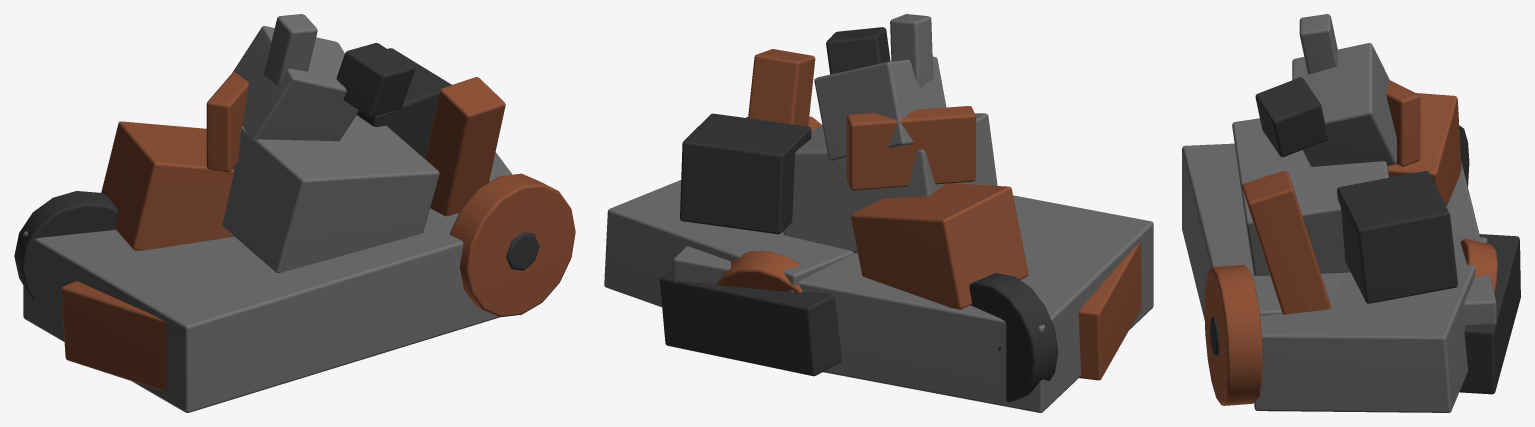
Rendered from scrap-pile.glb.
The picture shows the model from 3 angles, left to right: view 1: azimuth 30°, elevation 25°; view 2: azimuth 150°, elevation 25°; view 3: azimuth 270°, elevation 25°; orthographic projection. The views are drawn at different scales.
Visible parts, largest first — view 1: scrap-pile; view 2: scrap-pile; view 3: scrap-pile.
Boxes of the visible parts, x1,y1,x2,y2 form: scrap-pile: [14, 14, 575, 412]; scrap-pile: [604, 14, 1153, 412]; scrap-pile: [1182, 14, 1520, 412].
Bounding box in the file's own units: 4.87 × 3.14 × 3.21.
